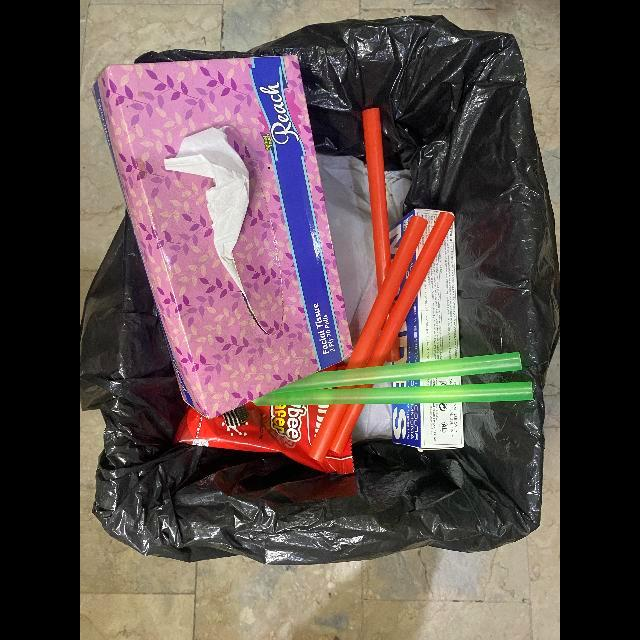cardboard: (93, 56, 353, 418), (389, 208, 464, 452)
food_wrapper: (173, 402, 355, 475)
paper: (164, 127, 257, 323)
